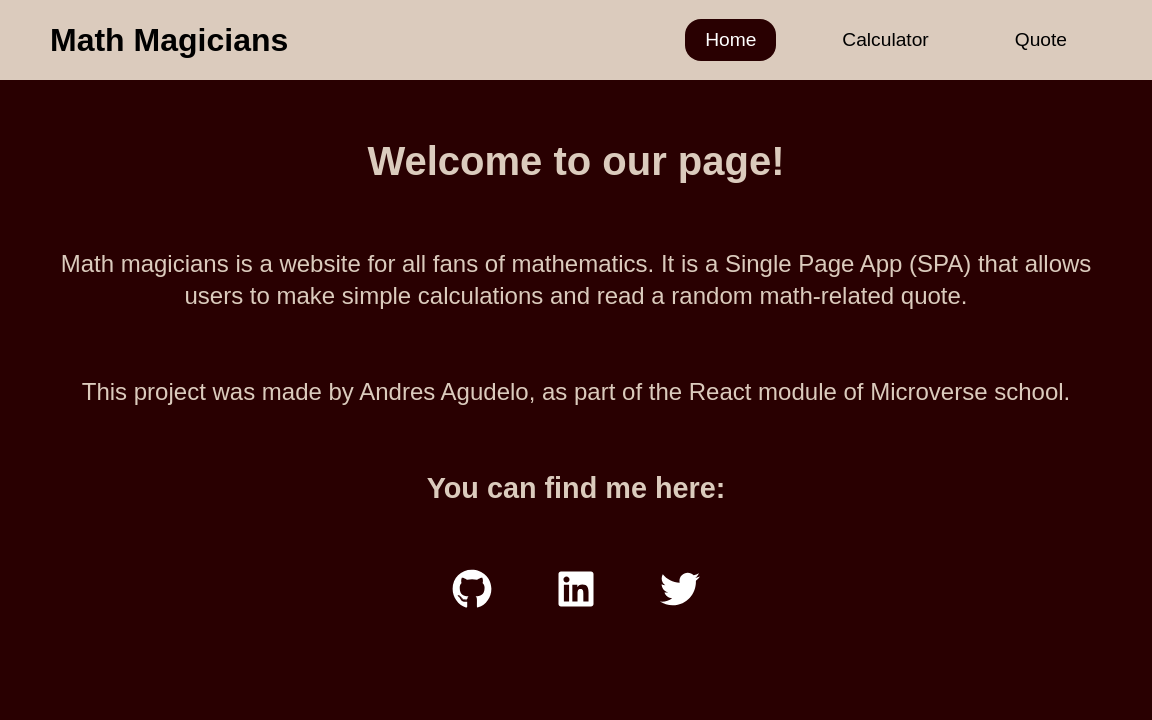
Test case: App › When the user clicks Quote, it displays the Quote component
This screenshot has width=1152, height=720.
Click the link "Quote".
click(1041, 40)  # box [1015, 29, 1067, 50]
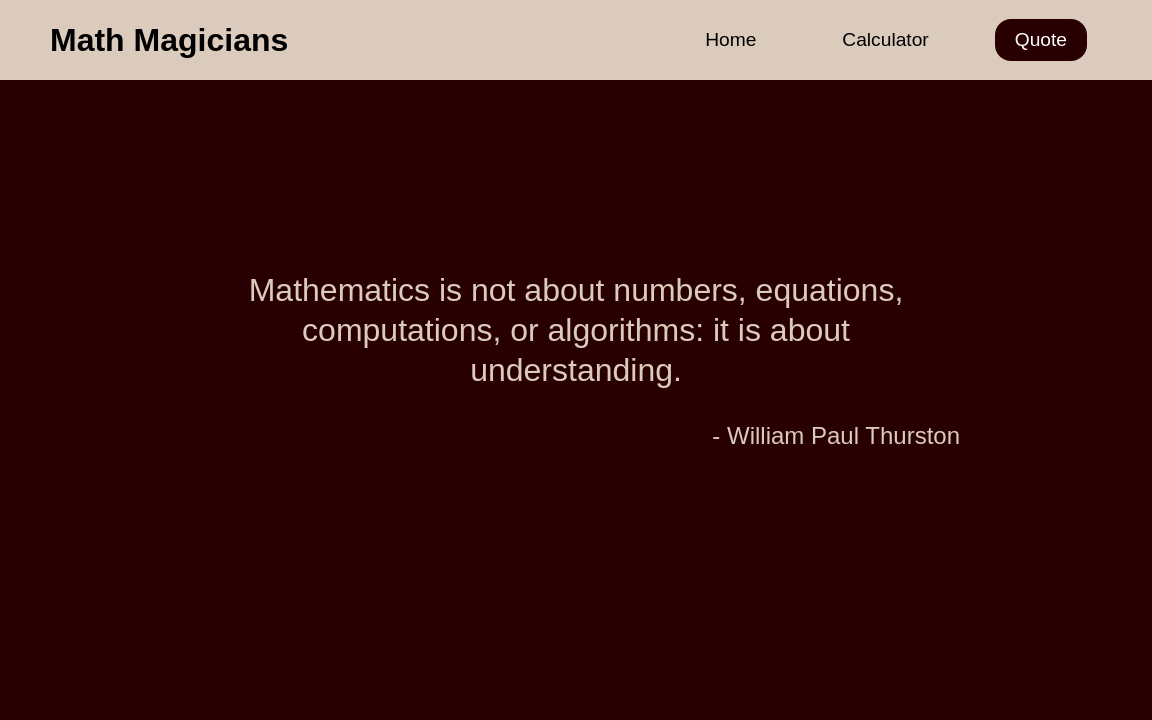
Expected: the text "- William Paul Thurston" is shown, [712, 422, 960, 449]
